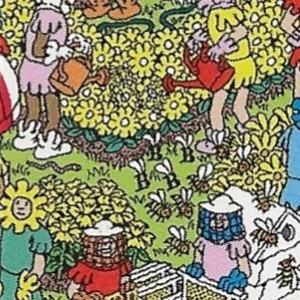Odlaw: (37, 128, 47, 172)
